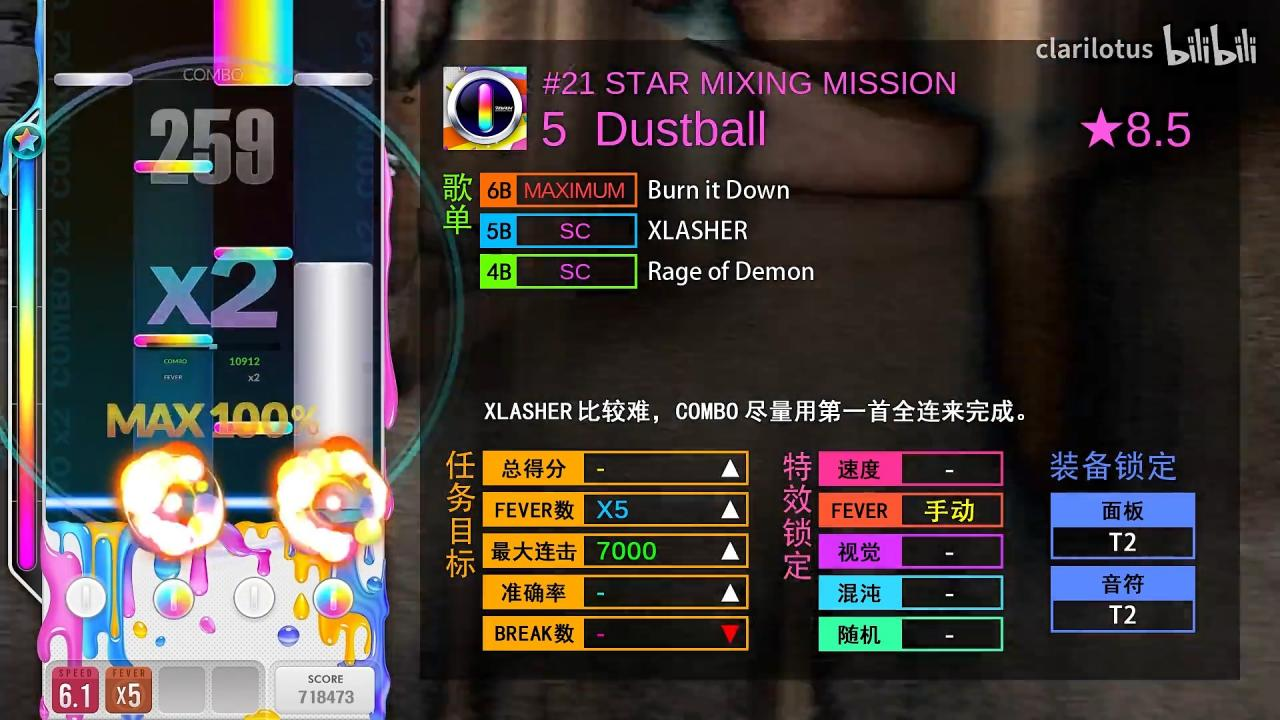hold-end: (294, 262, 374, 275)
hold-start: (213, 73, 293, 86)
note: (294, 73, 373, 87), (214, 247, 293, 261), (134, 334, 213, 348), (54, 72, 132, 86), (214, 422, 293, 435), (134, 160, 212, 173)
